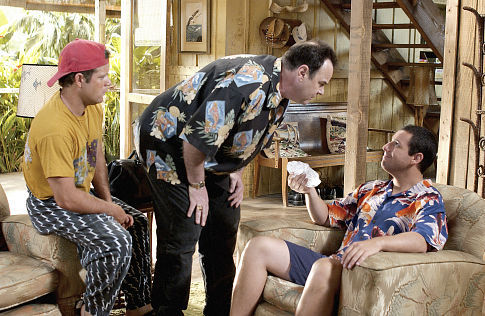20: (373, 123, 419, 174)
25: (77, 55, 113, 109)
33: (292, 54, 337, 110)
Bag: (107, 148, 156, 209)
Hat: (259, 14, 291, 50), (291, 21, 315, 44)
Male: (292, 54, 337, 110), (373, 123, 419, 174), (77, 55, 113, 109)
P-Cap: (45, 40, 112, 87)
Pants: (139, 159, 241, 316)
Ring: (196, 204, 204, 213)
Shirt: (133, 54, 290, 188), (326, 176, 447, 263)
Shoes: (318, 185, 345, 201), (284, 189, 304, 207)
Shorts: (281, 236, 329, 286)
T-shirt: (22, 86, 104, 201)
Trouser: (24, 184, 153, 316)
Watch: (187, 179, 207, 190)
